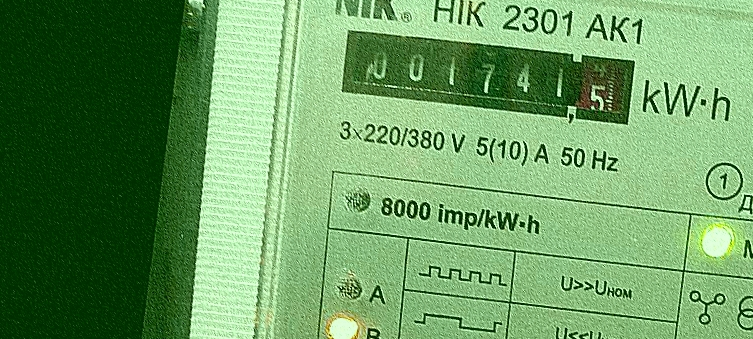0: (403, 48, 427, 85), (367, 47, 391, 82)
1: (439, 51, 461, 89), (549, 64, 568, 101)
4: (511, 58, 535, 95), (590, 60, 608, 80)
5: (584, 80, 607, 113)
7: (475, 59, 496, 95)
screen: (332, 17, 643, 136)
